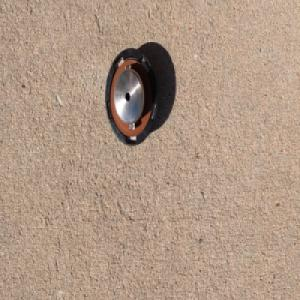FuelCap: (102, 45, 158, 148)
